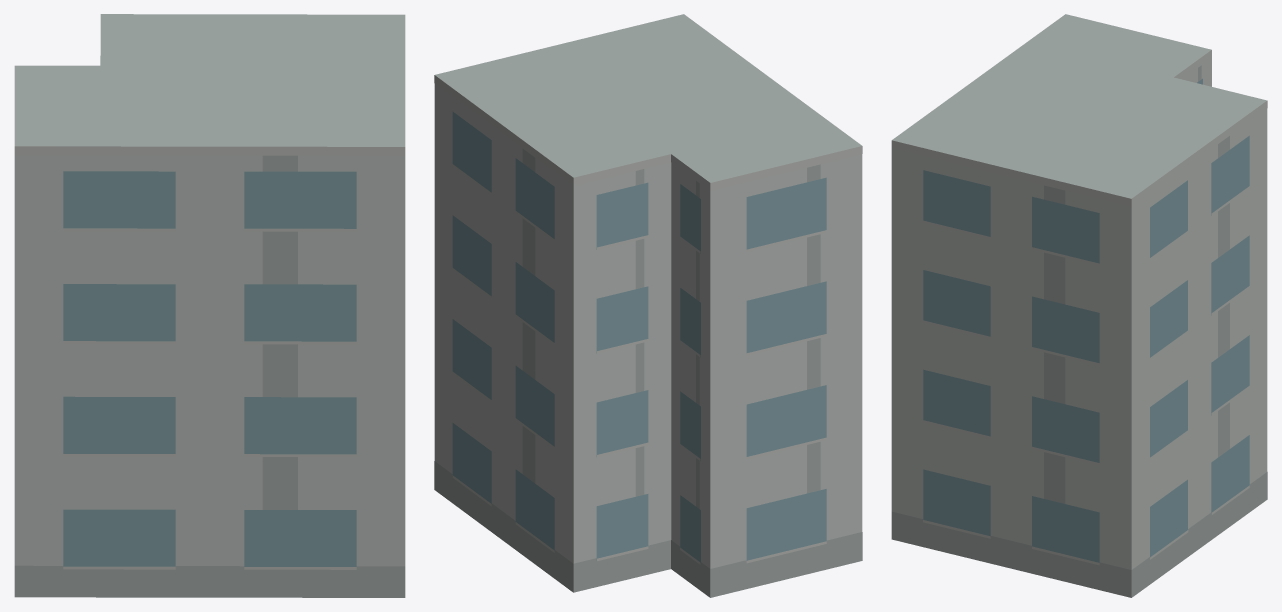
Rendered from residential-90a2360b-4c64-46ec-9d98-09c024a5a6f4.glb.
3 renders of one model, left to right at view 1: azimuth 30°, elevation 25°; view 2: azimuth 150°, elevation 25°; view 3: azimuth 270°, elevation 25°, orthographic. The views are drawn at different scales.
Parts seen in each view (by area): view 1: residential-90a2360b-4c64-46ec-9d98-09c024a5a6f4.tmp; view 2: residential-90a2360b-4c64-46ec-9d98-09c024a5a6f4.tmp; view 3: residential-90a2360b-4c64-46ec-9d98-09c024a5a6f4.tmp.
Part boxes in pixels (box(x1,y1,x2,y2)): residential-90a2360b-4c64-46ec-9d98-09c024a5a6f4.tmp: box(14, 14, 405, 597); residential-90a2360b-4c64-46ec-9d98-09c024a5a6f4.tmp: box(434, 14, 862, 597); residential-90a2360b-4c64-46ec-9d98-09c024a5a6f4.tmp: box(891, 14, 1267, 597).
Size of the model in its own units: 12.12 by 12.2 by 10.42.
